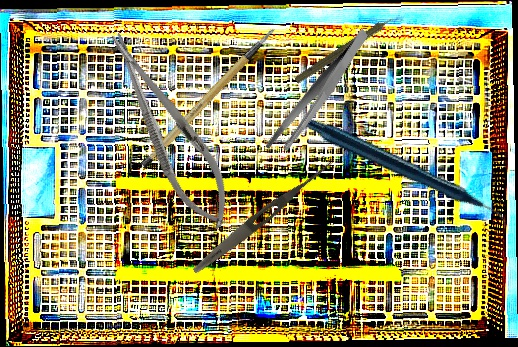Dressing Forceps: (243, 27, 395, 160), (189, 155, 336, 278)
Handpiece: (302, 58, 510, 290), (292, 8, 405, 89)
Needle Holder: (92, 21, 247, 239)
Scalpel Handle: (124, 25, 297, 172)
